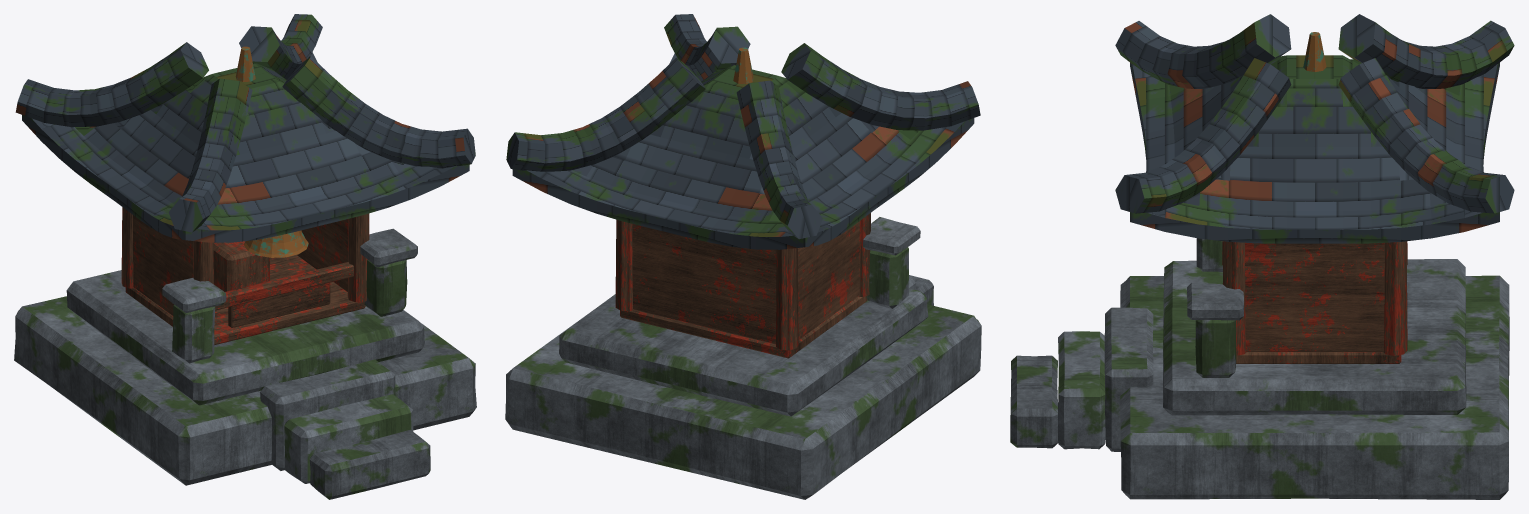
The model's file is Bell_Shrine_Roadside.glb.
3 renders of one model, left to right at view 1: azimuth 30°, elevation 25°; view 2: azimuth 150°, elevation 25°; view 3: azimuth 270°, elevation 25°, orthographic. The views are drawn at different scales.
Parts seen in each view (by area): view 1: Bell_Shrine_Roadside__Stone, Bell_Shrine_Roadside__Roof, Bell_Shrine_Roadside__Timber, Bell_Shrine_Roadside__Bronze; view 2: Bell_Shrine_Roadside__Stone, Bell_Shrine_Roadside__Roof, Bell_Shrine_Roadside__Timber, Bell_Shrine_Roadside__Bronze; view 3: Bell_Shrine_Roadside__Stone, Bell_Shrine_Roadside__Roof, Bell_Shrine_Roadside__Timber, Bell_Shrine_Roadside__Bronze.
Part boxes in pixels (left/top/right/bottom): Bell_Shrine_Roadside__Stone: left=14, top=228, right=476, bottom=499; Bell_Shrine_Roadside__Roof: left=15, top=14, right=475, bottom=242; Bell_Shrine_Roadside__Timber: left=121, top=207, right=369, bottom=344; Bell_Shrine_Roadside__Bronze: left=235, top=46, right=308, bottom=257; Bell_Shrine_Roadside__Stone: left=505, top=217, right=981, bottom=499; Bell_Shrine_Roadside__Roof: left=506, top=14, right=980, bottom=249; Bell_Shrine_Roadside__Timber: left=615, top=213, right=870, bottom=358; Bell_Shrine_Roadside__Bronze: left=733, top=47, right=753, bottom=83; Bell_Shrine_Roadside__Stone: left=1010, top=238, right=1509, bottom=499; Bell_Shrine_Roadside__Roof: left=1115, top=14, right=1514, bottom=243; Bell_Shrine_Roadside__Timber: left=1222, top=241, right=1407, bottom=363; Bell_Shrine_Roadside__Bronze: left=1222, top=32, right=1326, bottom=241.
Size of the model in its own units: 9.23 by 9.92 by 11.69.
4 materials, 4 textured.
